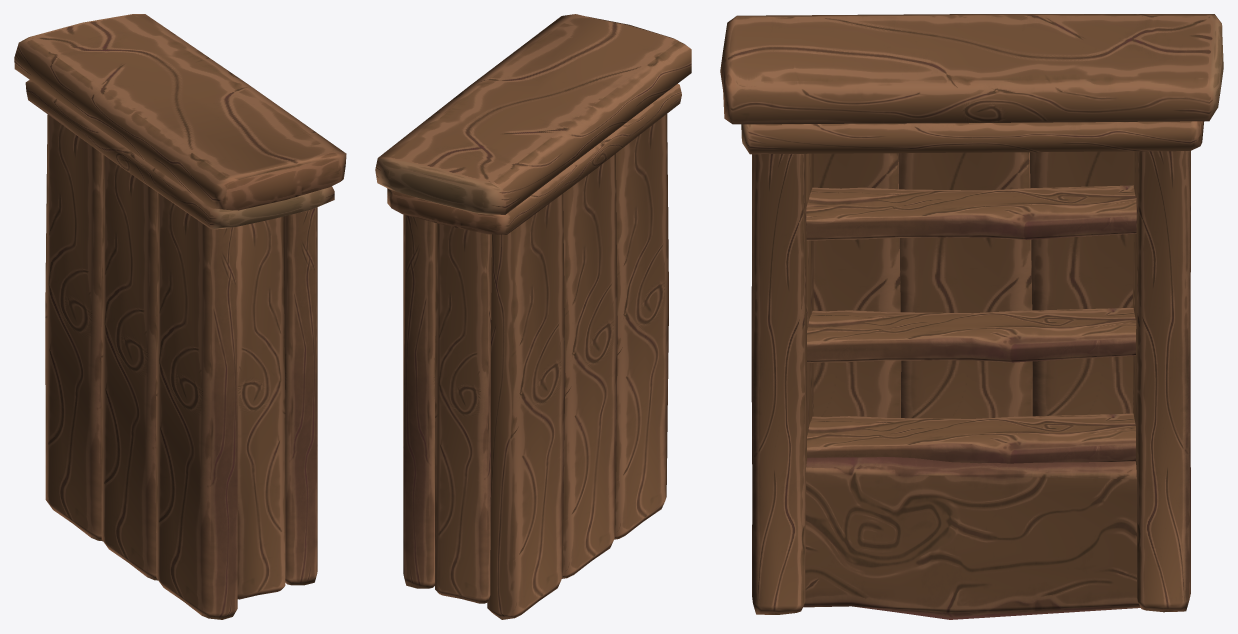
The model's file is Library_A.fbx.
The picture shows the model from 3 angles, left to right: view 1: azimuth 30°, elevation 25°; view 2: azimuth 150°, elevation 25°; view 3: azimuth 270°, elevation 25°; orthographic projection. The views are drawn at different scales.
Visible parts, largest first — view 1: Lowpoly 2.013; view 2: Lowpoly 2.013; view 3: Lowpoly 2.013.
Part boxes in pixels (bbox=[...]): Lowpoly 2.013: bbox=[14, 14, 346, 619]; Lowpoly 2.013: bbox=[375, 14, 691, 619]; Lowpoly 2.013: bbox=[720, 14, 1223, 619].
Bounding box in the file's own units: 797 × 2539 × 2038.
